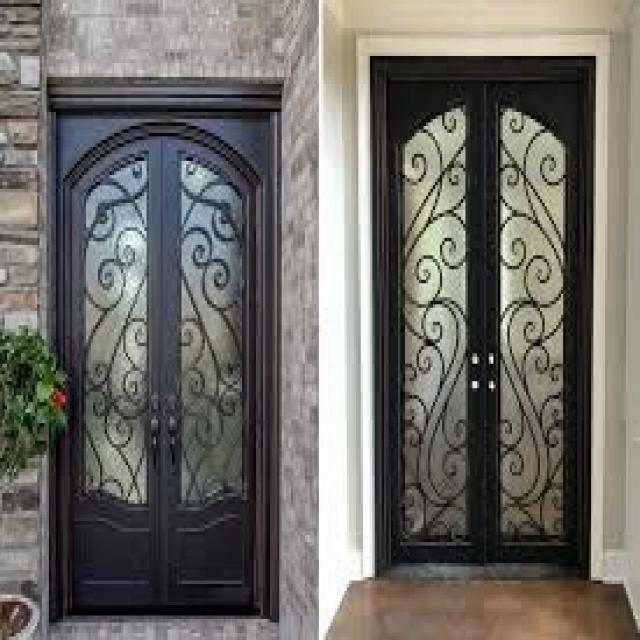Door: (44, 95, 275, 604), (372, 63, 586, 570)
